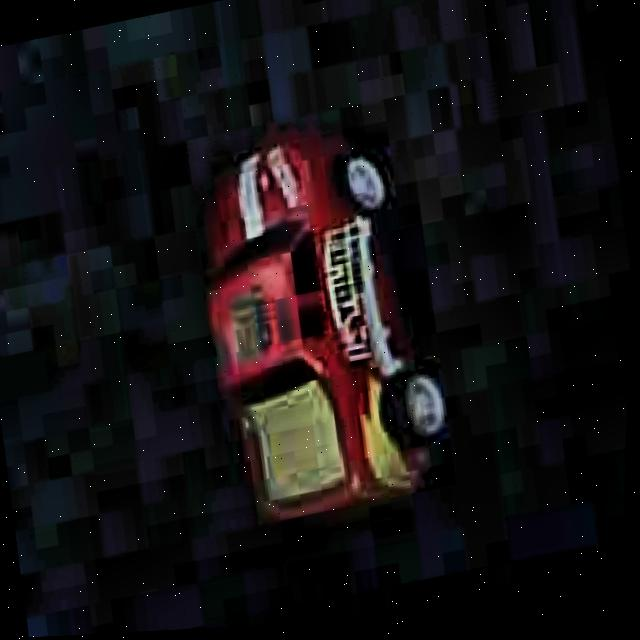car: (166, 104, 478, 539)
